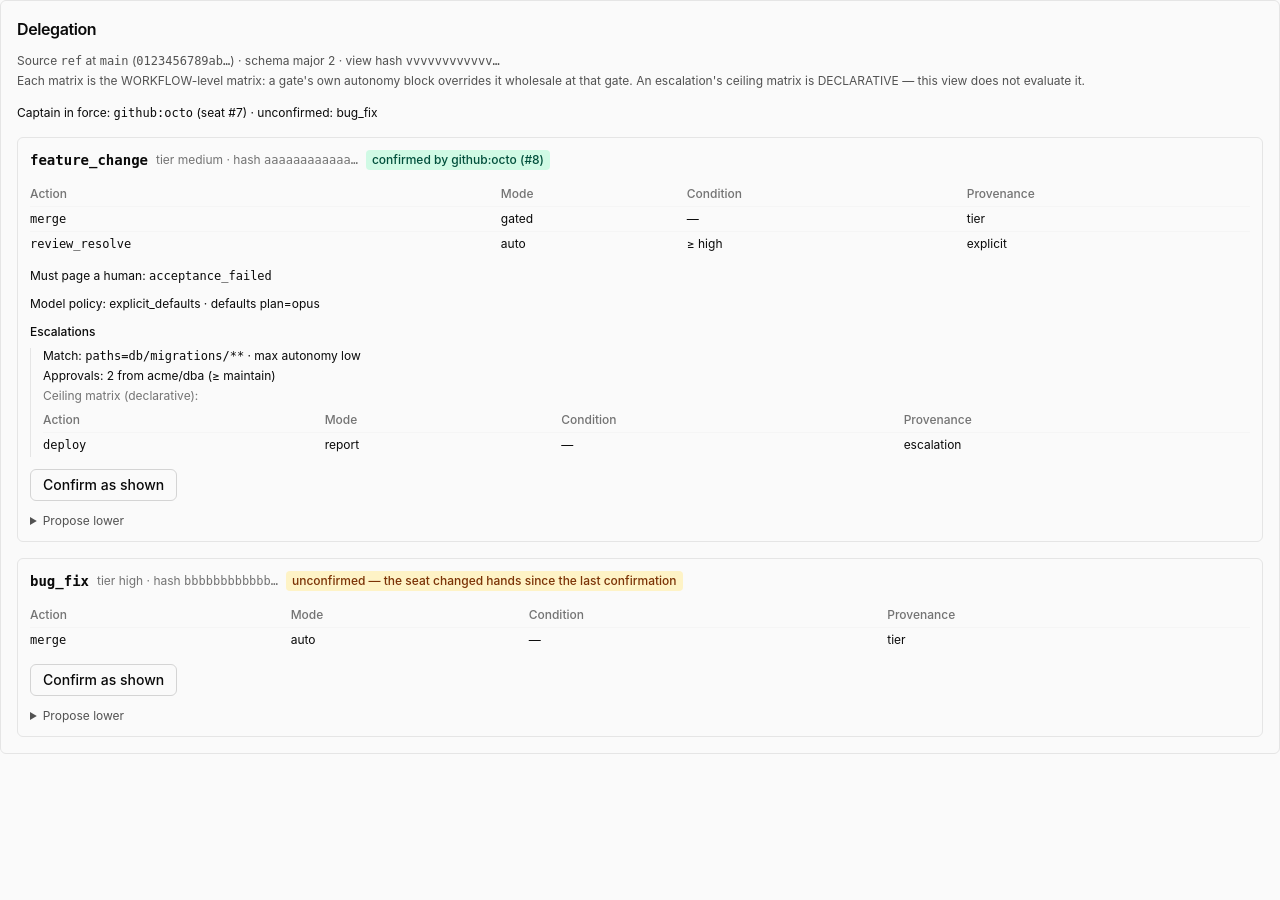
it: <DelegationPanel> confirm › a 501 from confirm disables both verbs with the reason named
Expected: the element with test id "delegation-workflow-feature_change" is shown, [17,137,1263,542]
Click the button "Confirm as shown" below "deploy": (104, 485) [30,469,177,501]
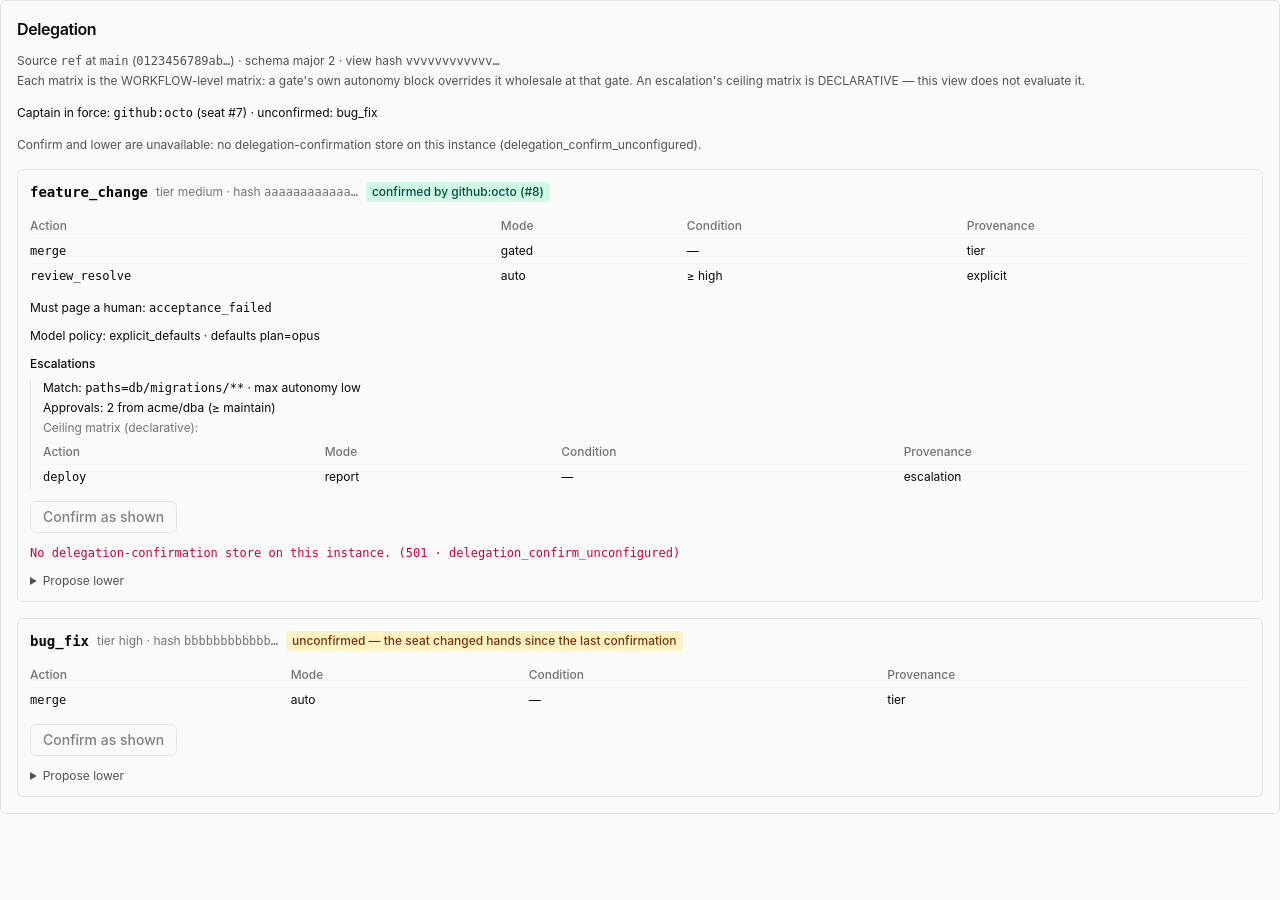
Now the text "Confirm and lower are unavailable" is shown, box [17,137,217,152]
Now the message shows "(501 · delegation_confirm_unconfigured)", box [30,546,680,560]
